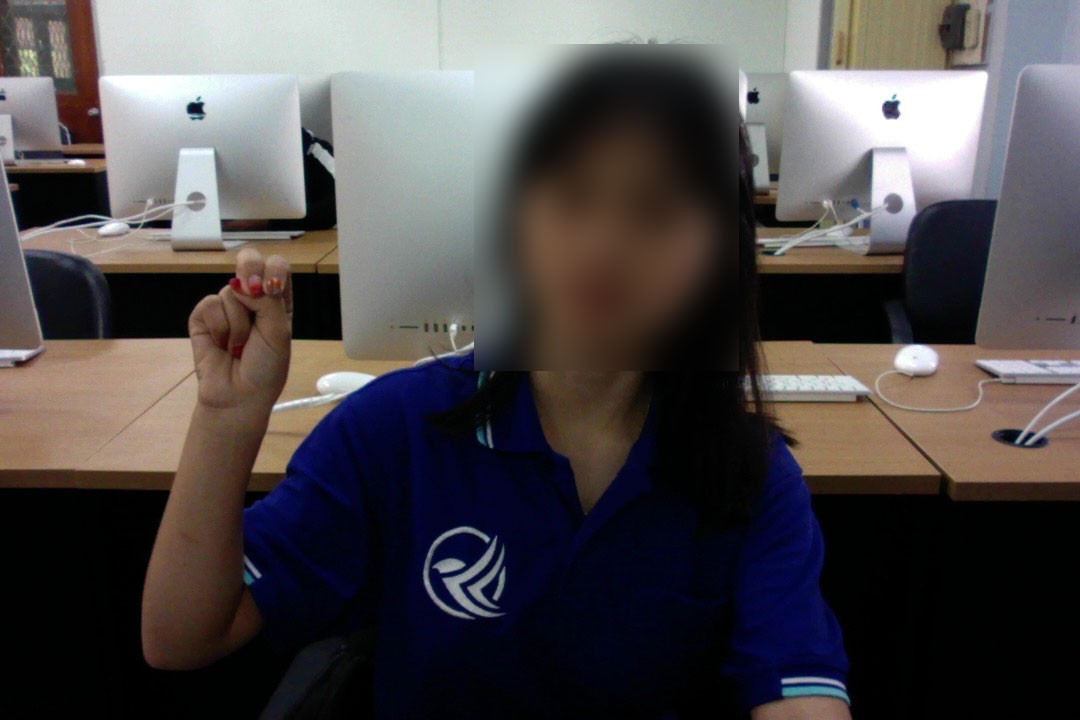nor: (181, 245, 297, 433)
